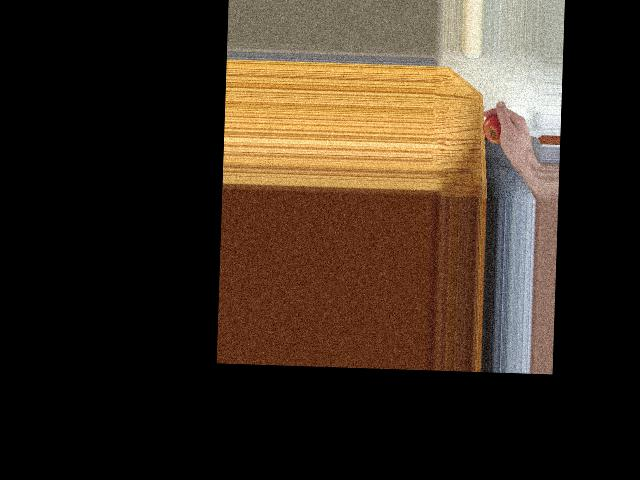apple: (481, 113, 510, 148)
